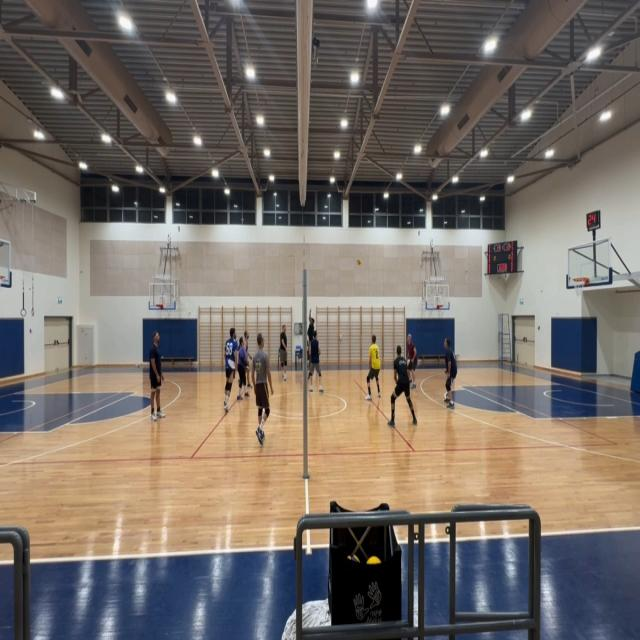volleyball: (356, 258, 361, 266)
